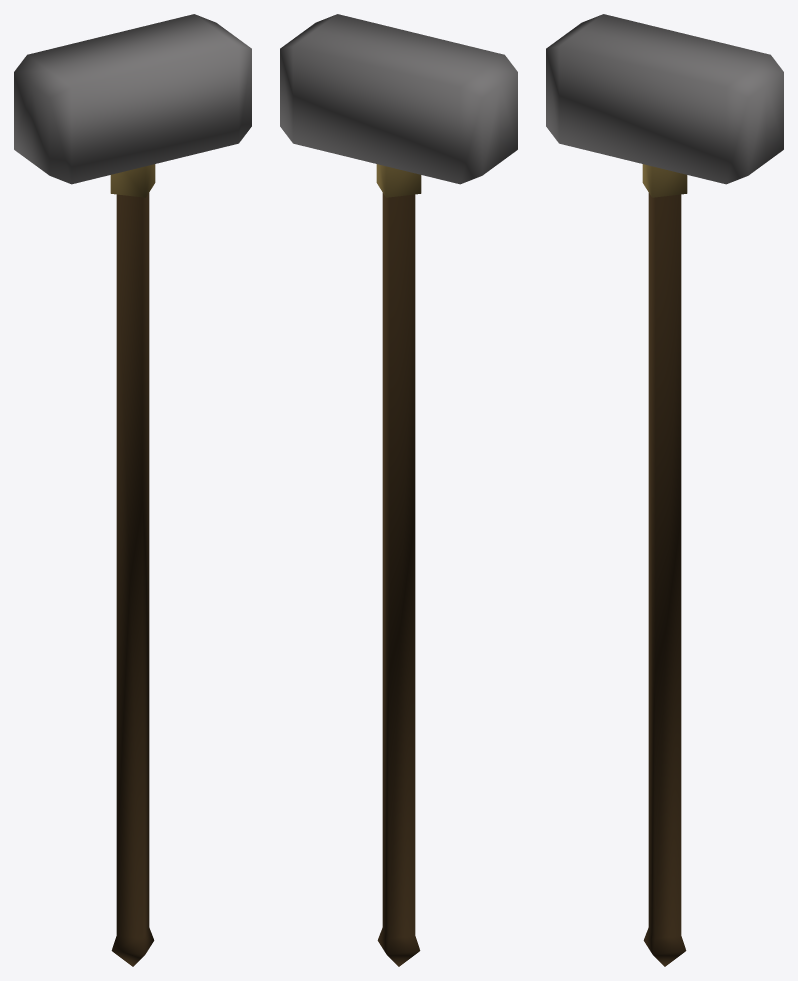
The model's file is maul.glb.
3 renders of one model, left to right at view 1: azimuth 30°, elevation 25°; view 2: azimuth 150°, elevation 25°; view 3: azimuth 330°, elevation 25°, orthographic.
Visible parts, largest first — view 1: two_handed_mace_1; view 2: two_handed_mace_1; view 3: two_handed_mace_1.
Part boxes in pixels (box(x1,y1,x2,y2)): two_handed_mace_1: box(14, 14, 251, 966); two_handed_mace_1: box(280, 14, 517, 966); two_handed_mace_1: box(546, 14, 783, 966).
Size of the model in its own units: 0.313 by 1.35 by 0.1192.
